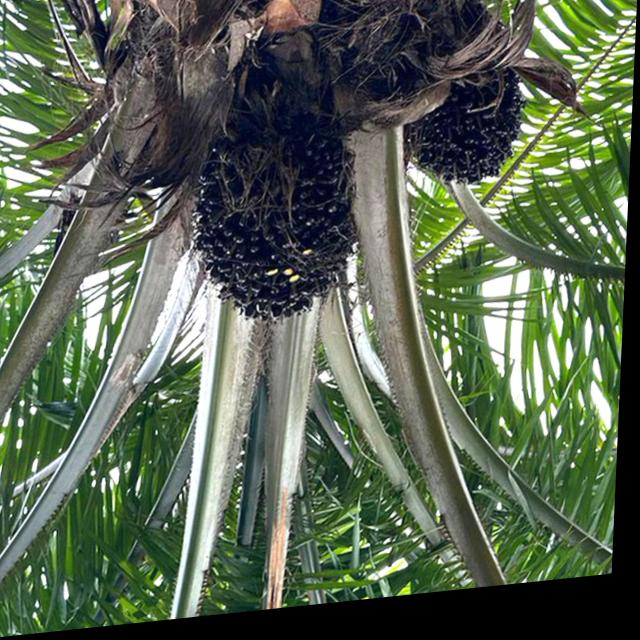unripe: (179, 105, 381, 351), (398, 50, 539, 213)
